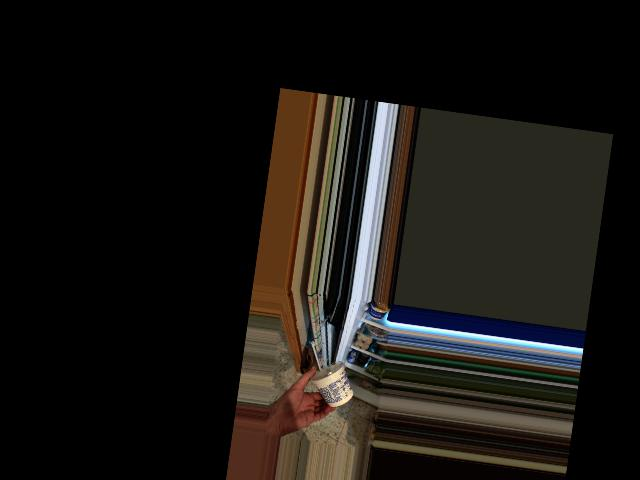cotage: (306, 355, 352, 410)
